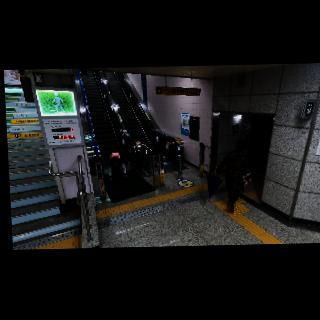anomaly: (105, 156, 129, 181)
normal: (212, 137, 255, 215)
